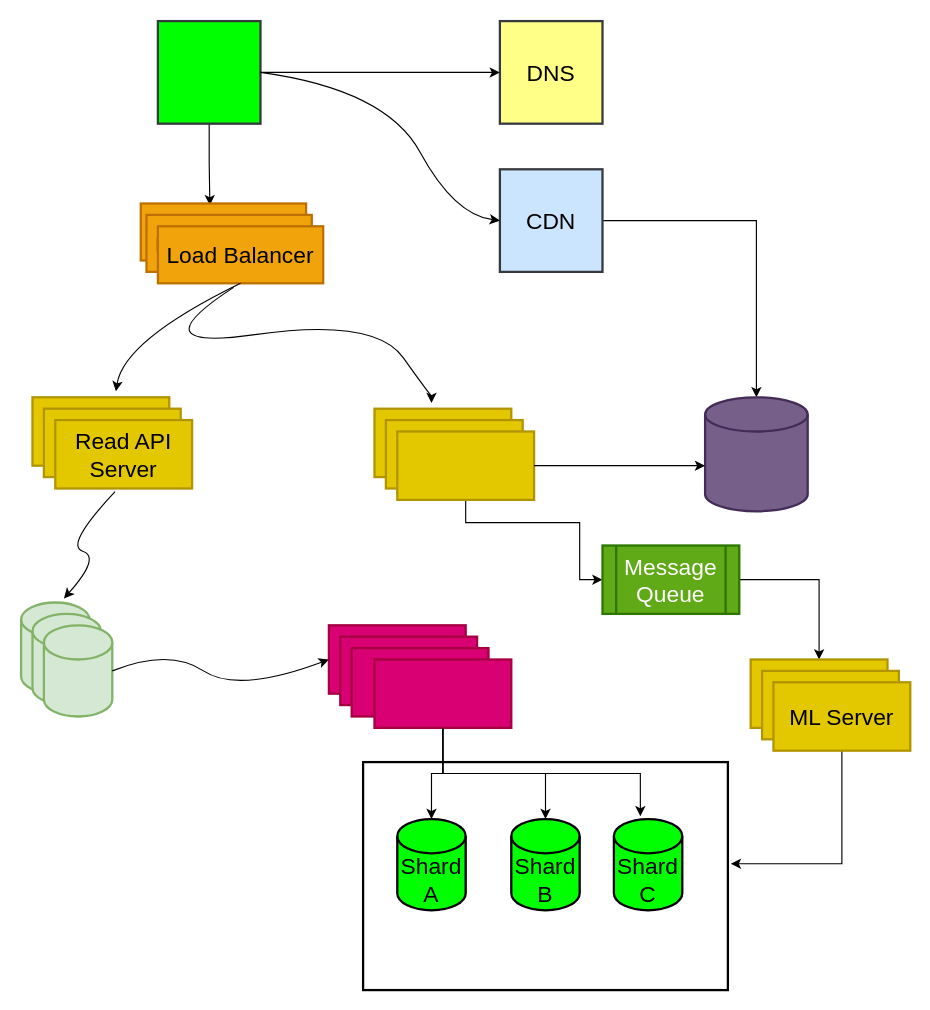
The diagram is 930 pixels wide and 1010 high, and some of its shapes have lost their labels. The shapes that lost their labels are listed below. From the top down, each one's centre as x and y in pixels, then its label:
(208,71): Client
(465,465): Write API Server
(755,454): Object Store
(77,670): Cache
(442,693): Aggregators
